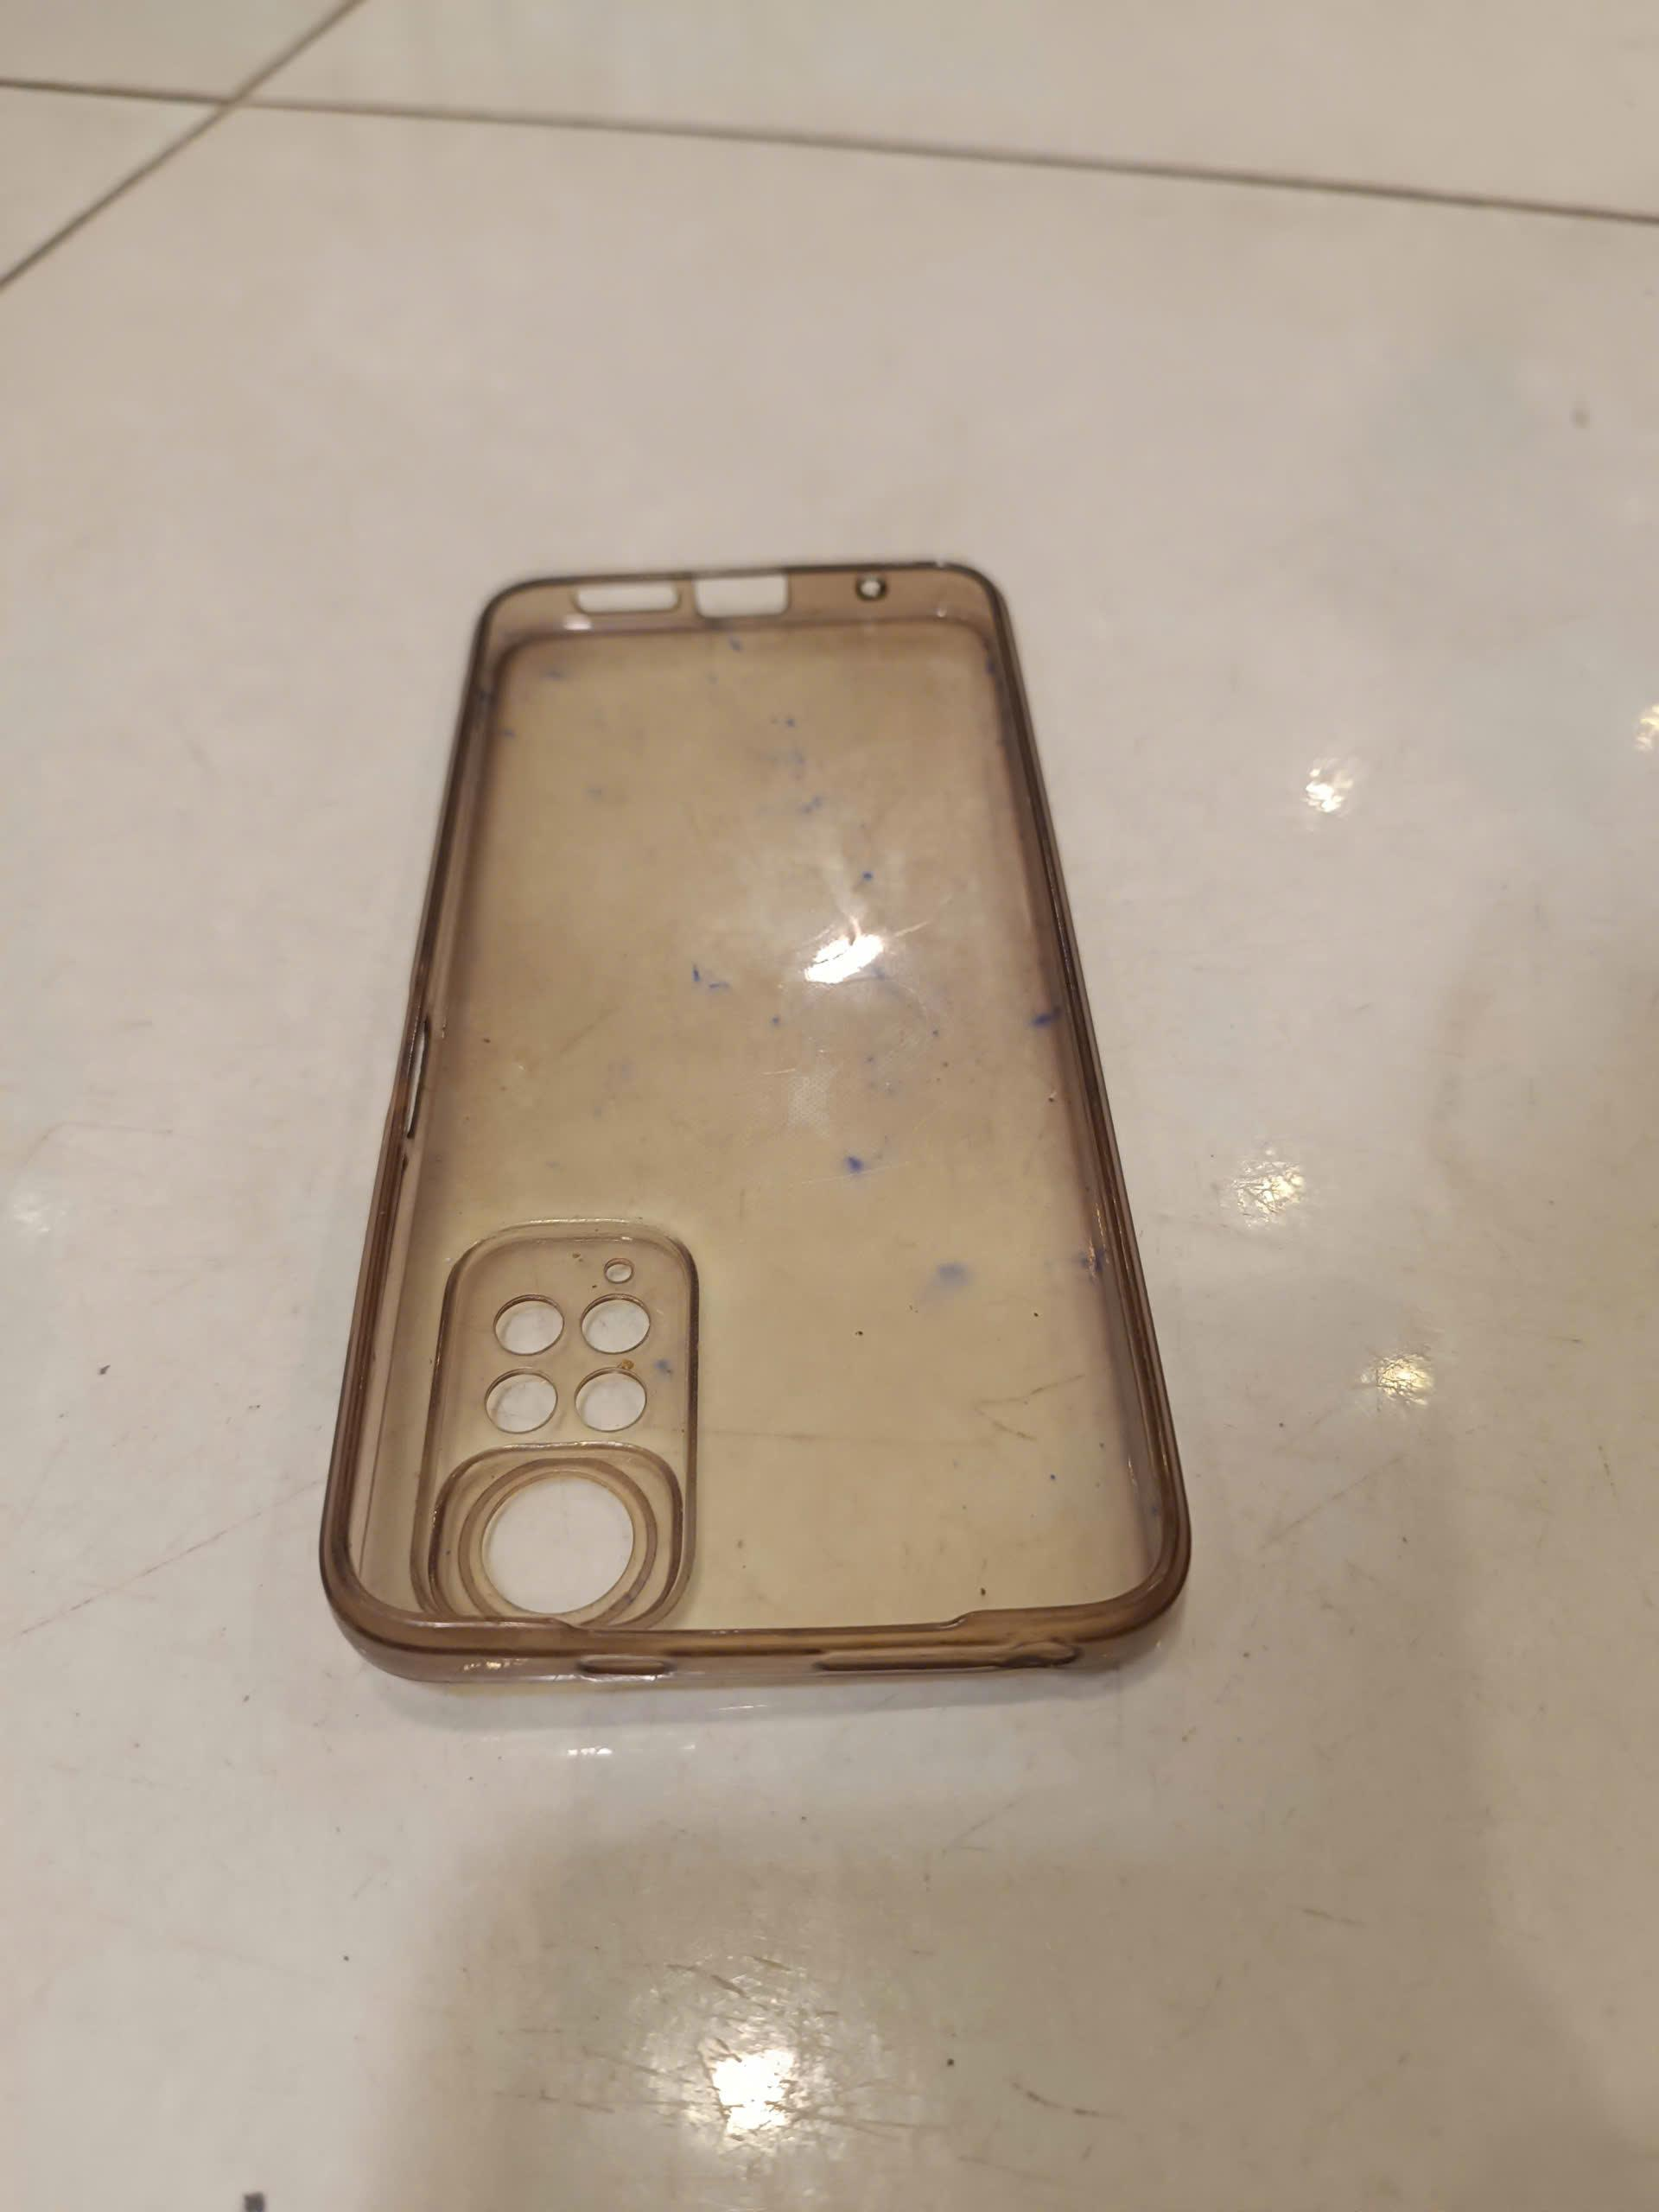Vo co: (315, 554, 1192, 1691)
